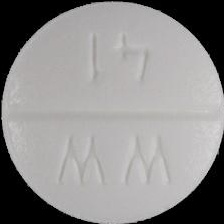0143-1241: (0, 0, 224, 224)
